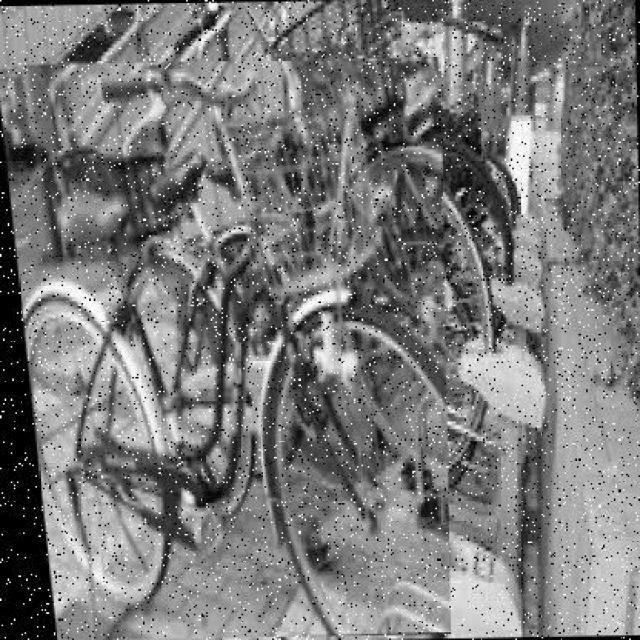bicycle: (0, 56, 454, 638)
